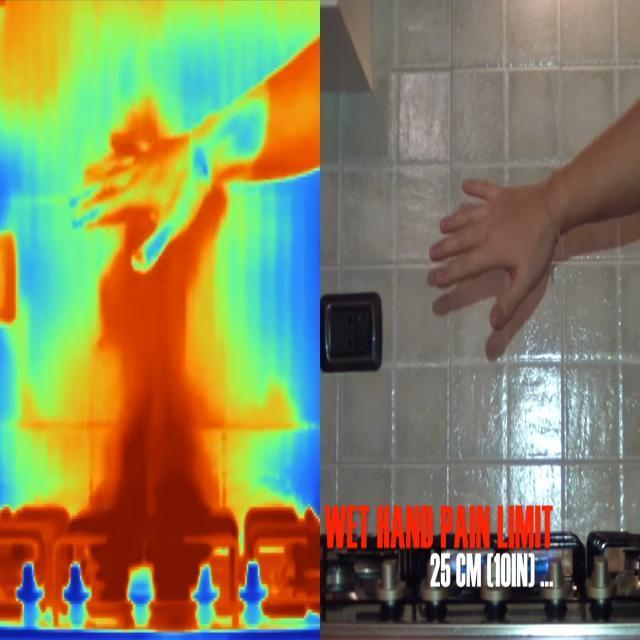fire: (80, 378, 220, 579)
